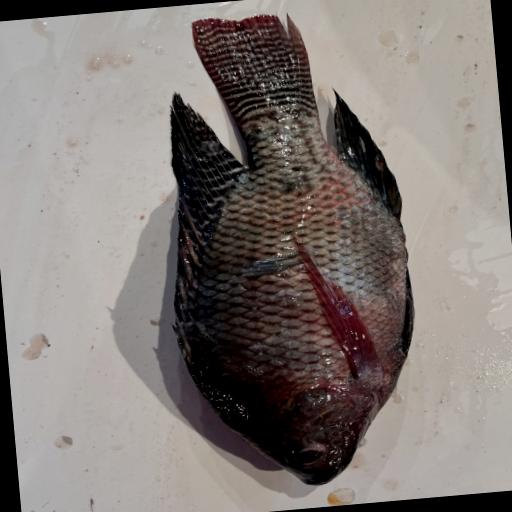Tilapia: (148, 2, 429, 499)
